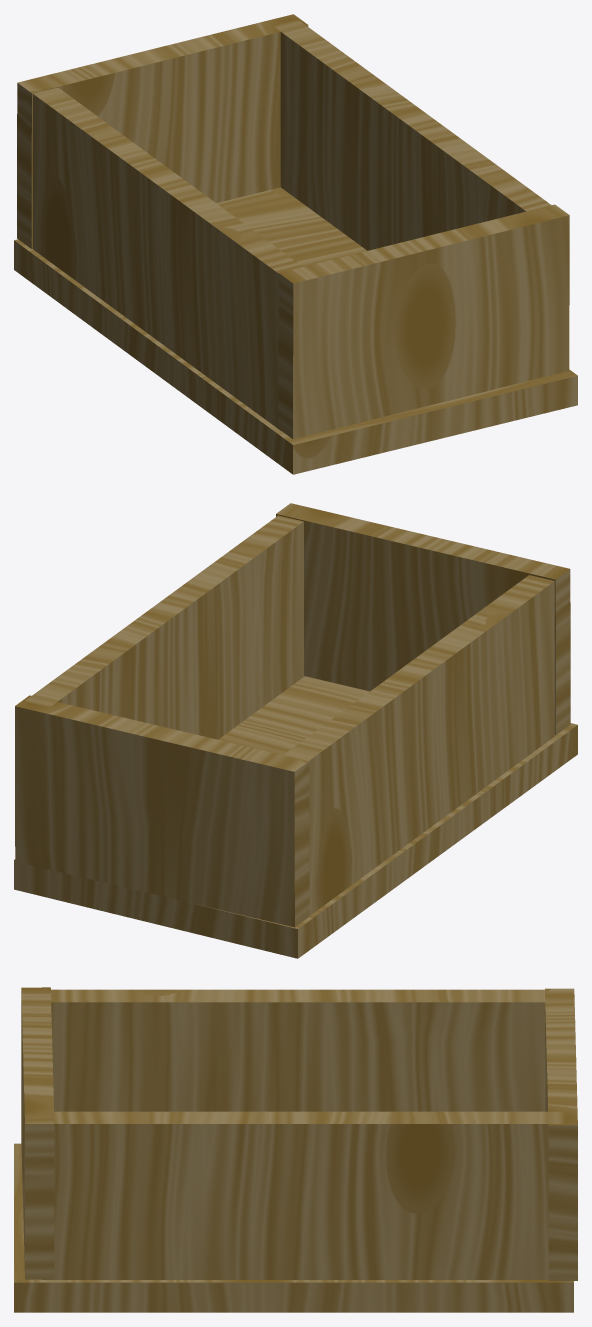
Rendered from bottle_box.glb.
The picture shows the model from 3 angles, top to bottom: view 1: azimuth 30°, elevation 25°; view 2: azimuth 150°, elevation 25°; view 3: azimuth 270°, elevation 25°; orthographic projection.
Parts seen in each view (by area): view 1: Cylinder; view 2: Cylinder; view 3: Cylinder.
Part boxes in pixels (x1,y1,x2,y2): Cylinder: [14, 14, 577, 474]; Cylinder: [14, 503, 577, 958]; Cylinder: [14, 987, 577, 1312].
Size of the model in its own units: 0.5406 by 0.34 by 0.9259.
1 material, 1 textured.
